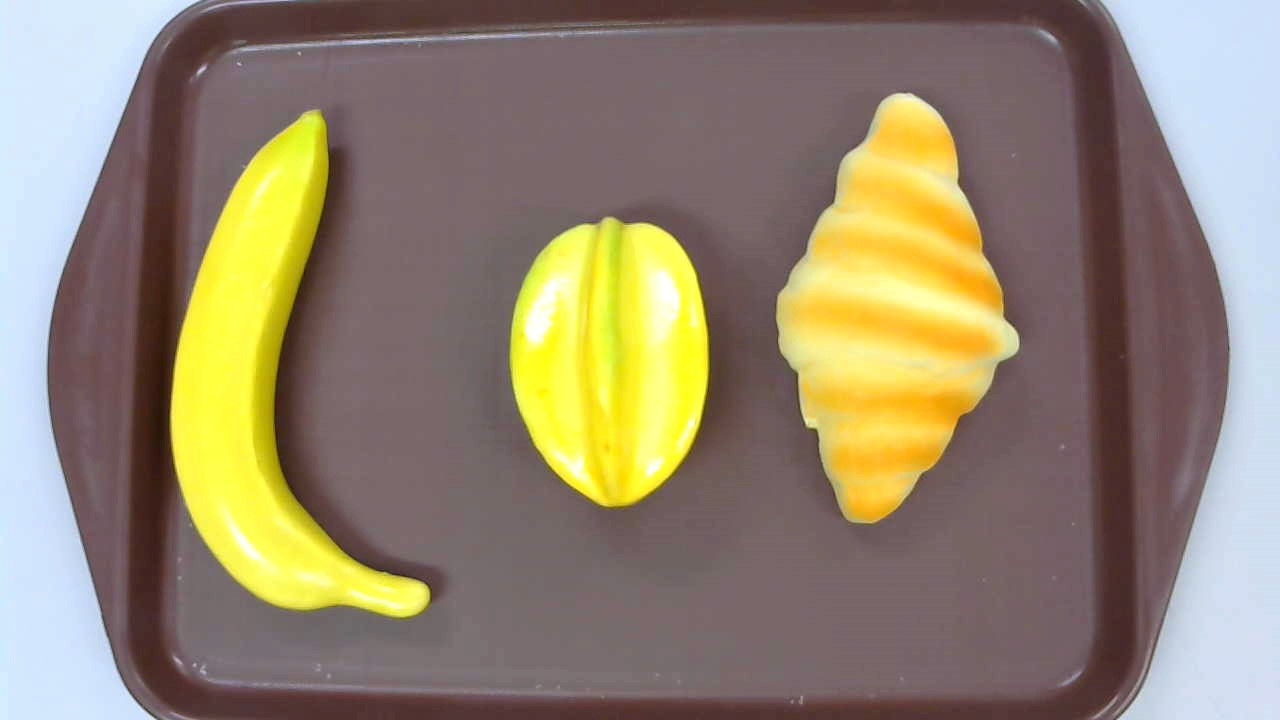banana: (170, 107, 430, 618)
croissant: (775, 92, 1022, 523)
star fruit: (507, 217, 711, 509)
